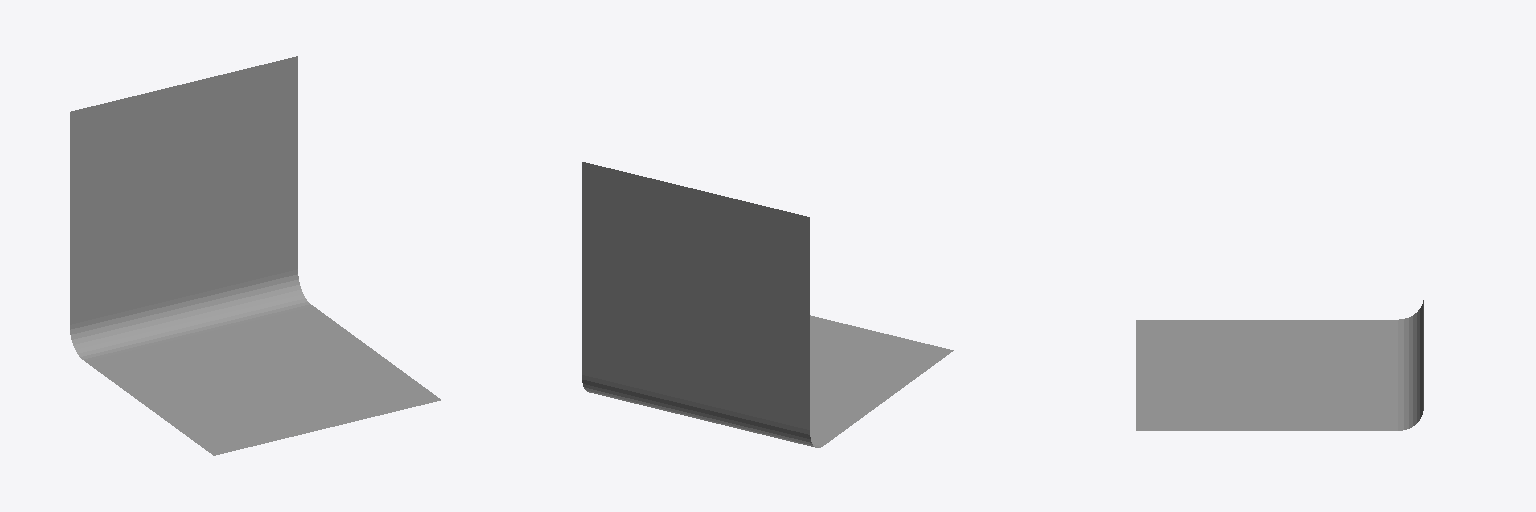
File: paper.obj
3 views of the same model, side by side, from view 1: azimuth 30°, elevation 25°; view 2: azimuth 150°, elevation 25°; view 3: azimuth 270°, elevation 25° (orthographic).
Visible parts, largest first — view 1: Plane; view 2: Plane; view 3: Plane.
Part boxes in pixels (x1,y1,x2,y2): Plane: (70, 56, 440, 455); Plane: (582, 162, 953, 447); Plane: (1136, 300, 1423, 430).
Bounding box in the file's own units: 30 × 29.97 × 32.78.